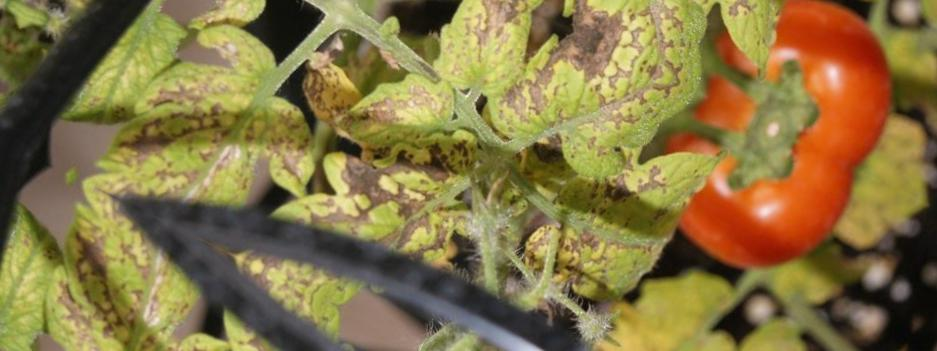Tomato leaf bacterial spot: (72, 0, 357, 268), (199, 81, 477, 337), (460, 8, 709, 232), (519, 101, 720, 332), (414, 0, 544, 117)
